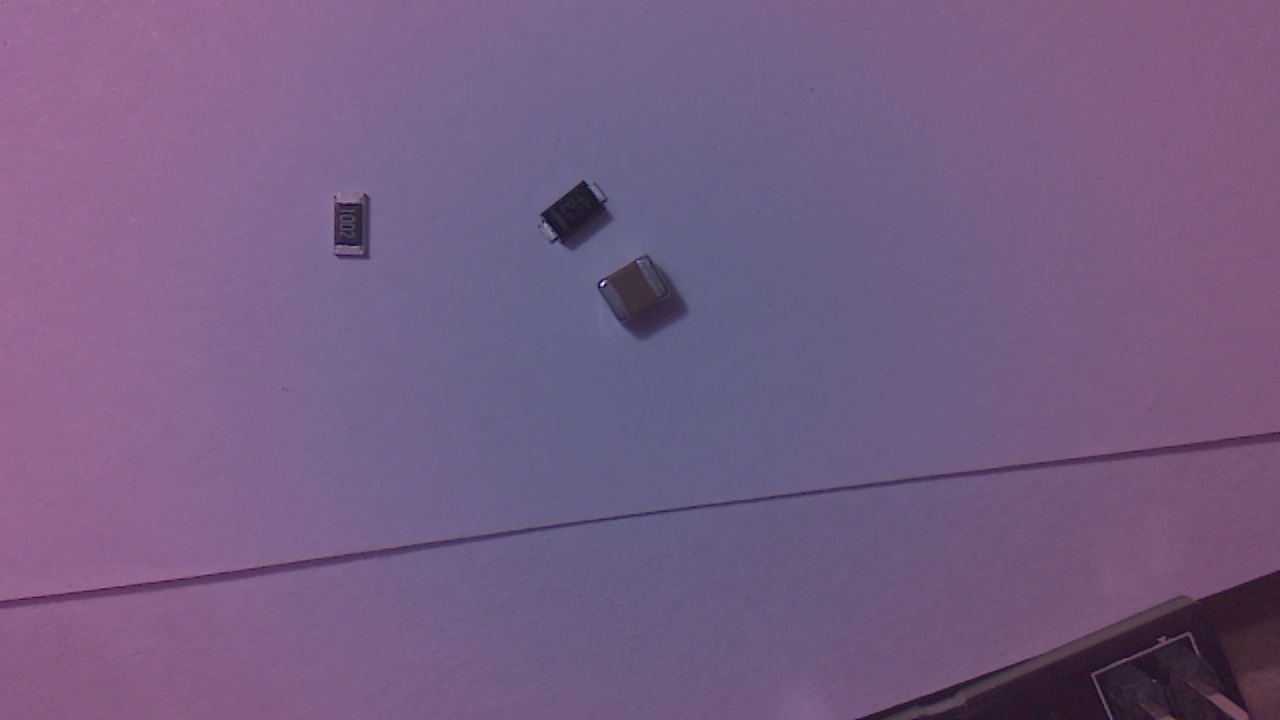Condensator: (600, 258, 680, 331)
Diode: (541, 183, 614, 251)
Resistor: (337, 195, 374, 262)
